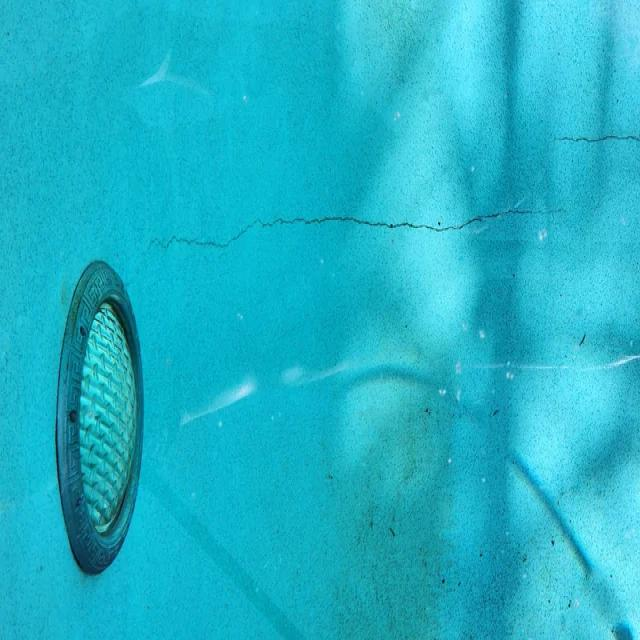crack: (142, 195, 571, 260), (549, 123, 640, 156)
